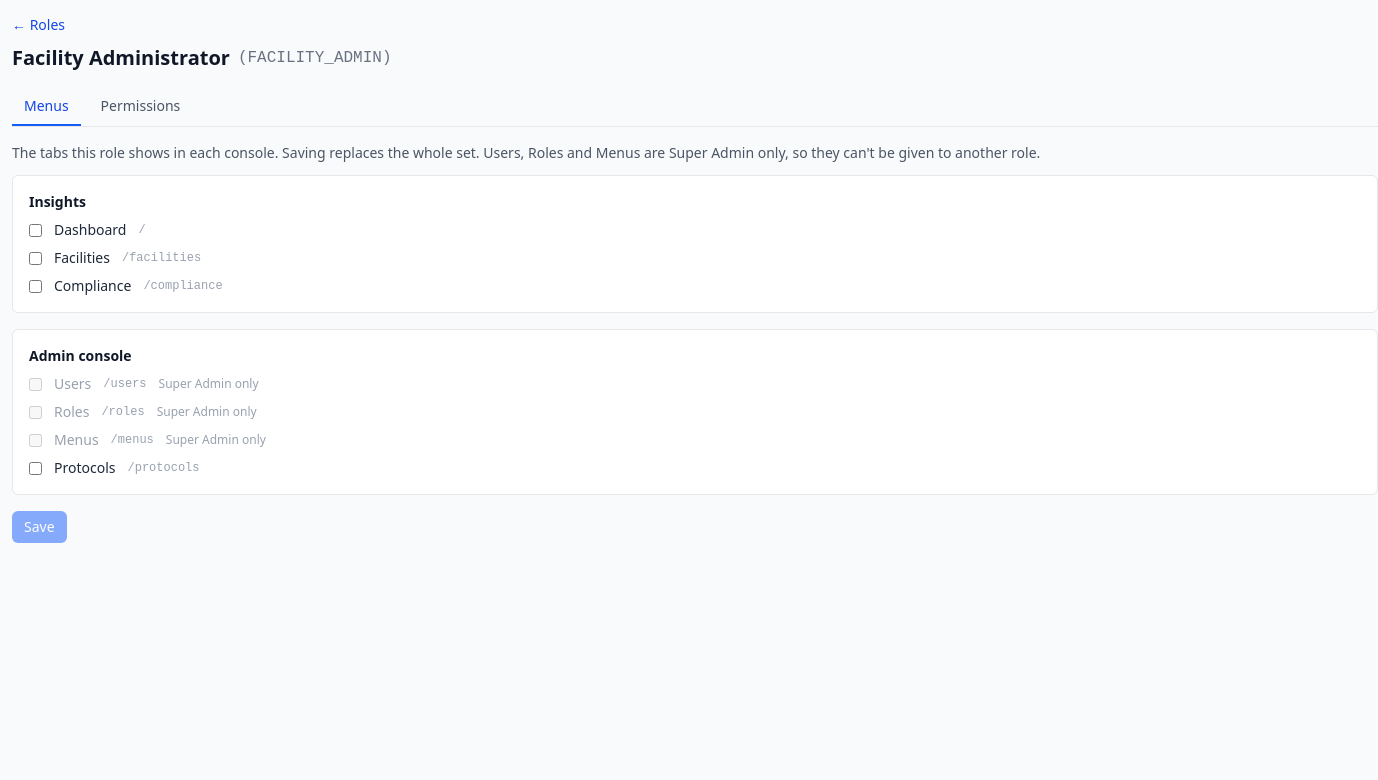
it: RoleDetailPage — Menus tab › shows the server's error and keeps the unsaved selection when save fails
Click the checkbox labelled "Compliance /compliance" at (36, 286), box [29,280,42,292]
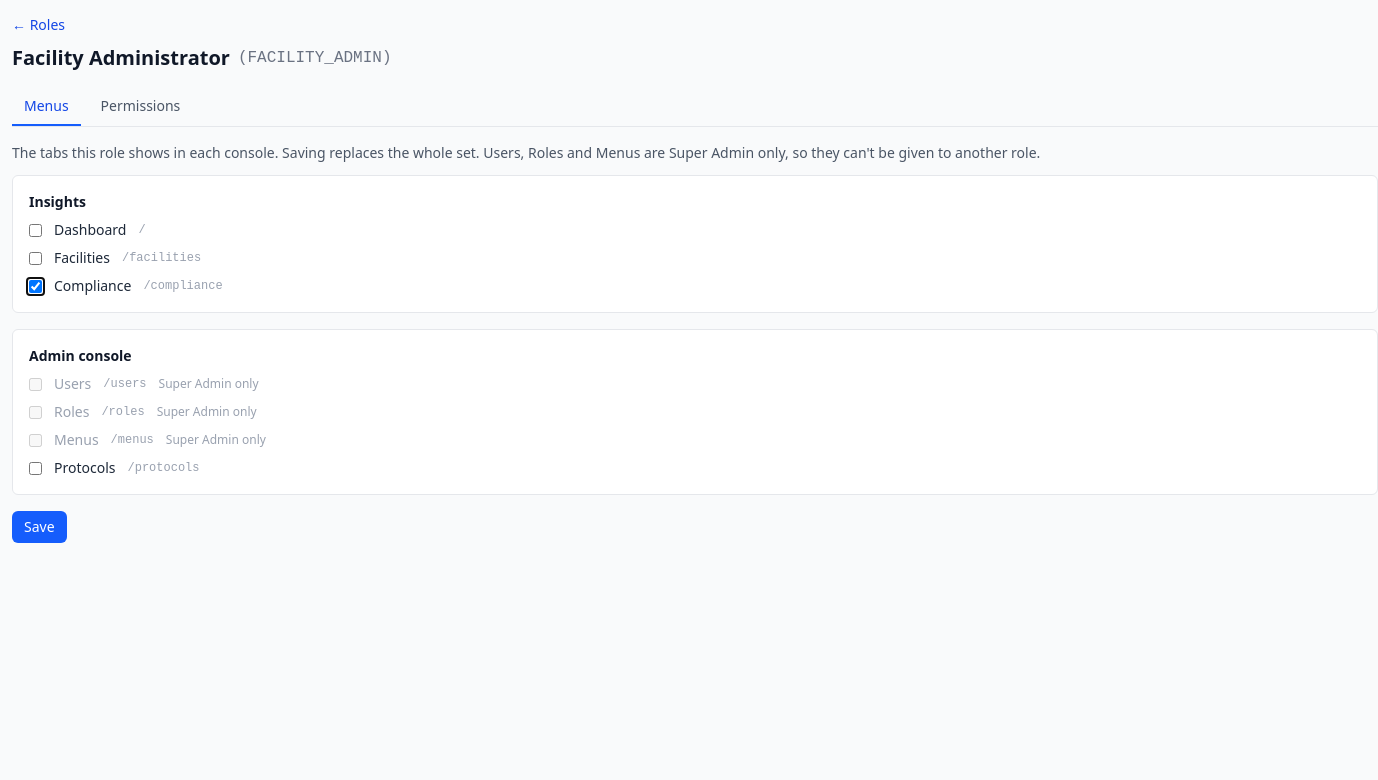
Click the button "Save" at (39, 527), box [12,511,67,543]
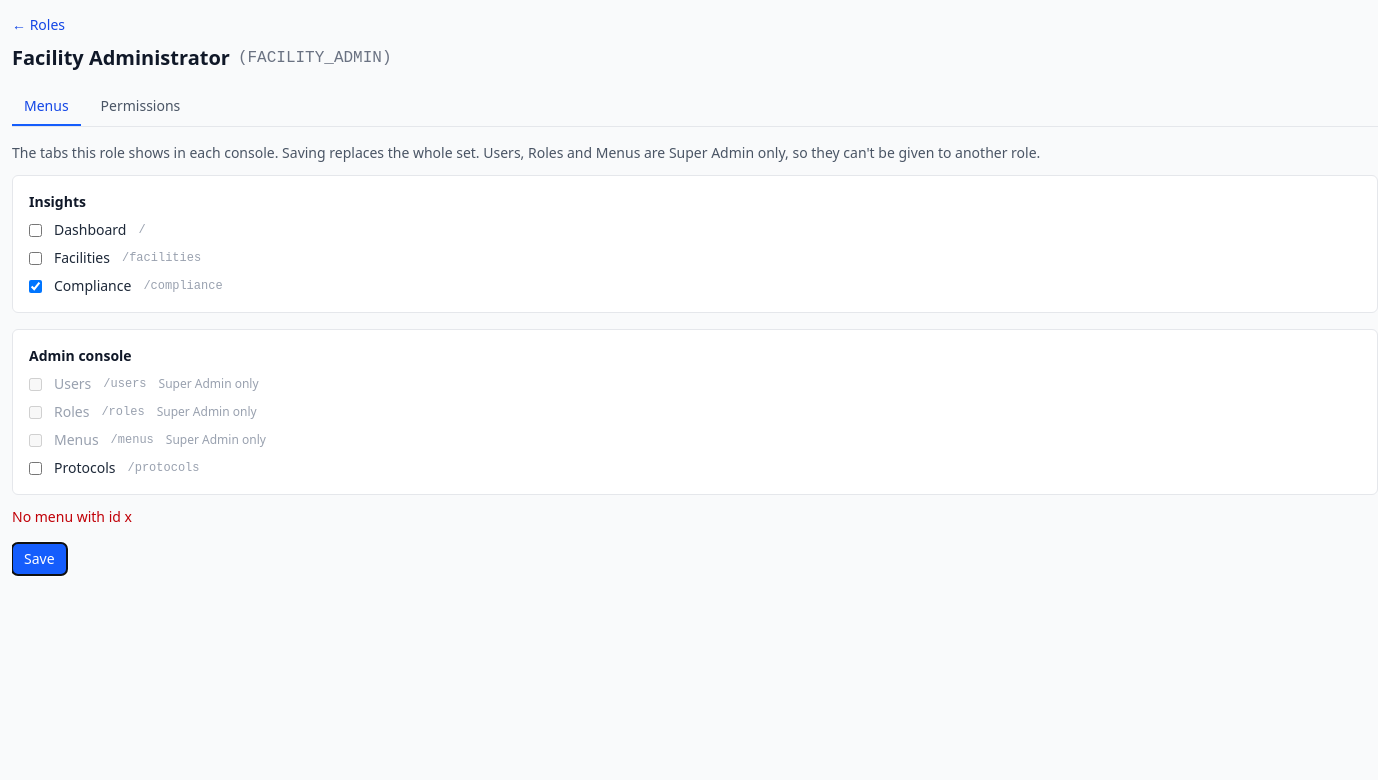
Expected: the checkbox labelled "Compliance /compliance" is checked, [29,280,42,292]
Expected: the button "Save" is enabled, [12,543,67,575]
Expected: the text "No menu with id x" is shown, [12,507,132,526]
